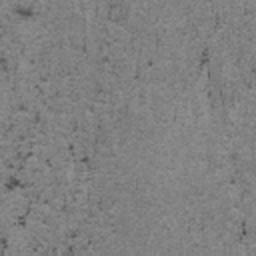Oxide scale of temperature system: (0, 76, 93, 256), (198, 47, 212, 99), (81, 44, 110, 64), (132, 60, 154, 81), (234, 218, 248, 243), (12, 5, 35, 18), (0, 55, 9, 73), (248, 68, 256, 79), (230, 151, 238, 161), (228, 178, 237, 186)
